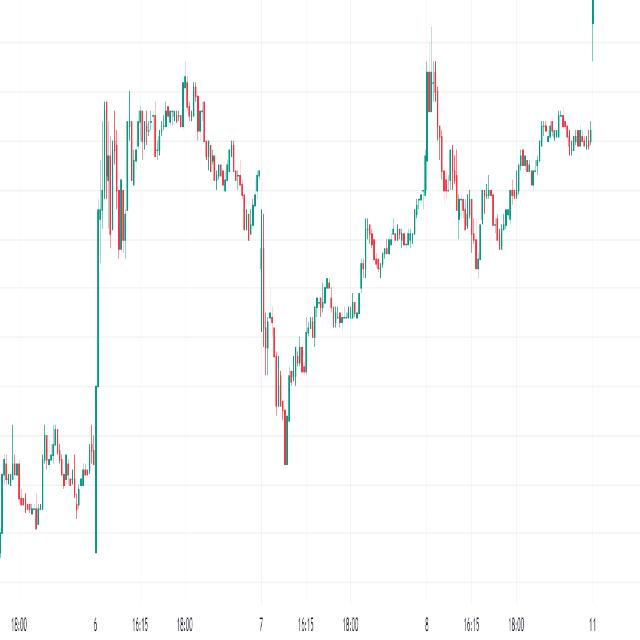Cup-and-handle: (324, 209, 397, 347)
Rising-Wedge: (433, 99, 573, 310)
